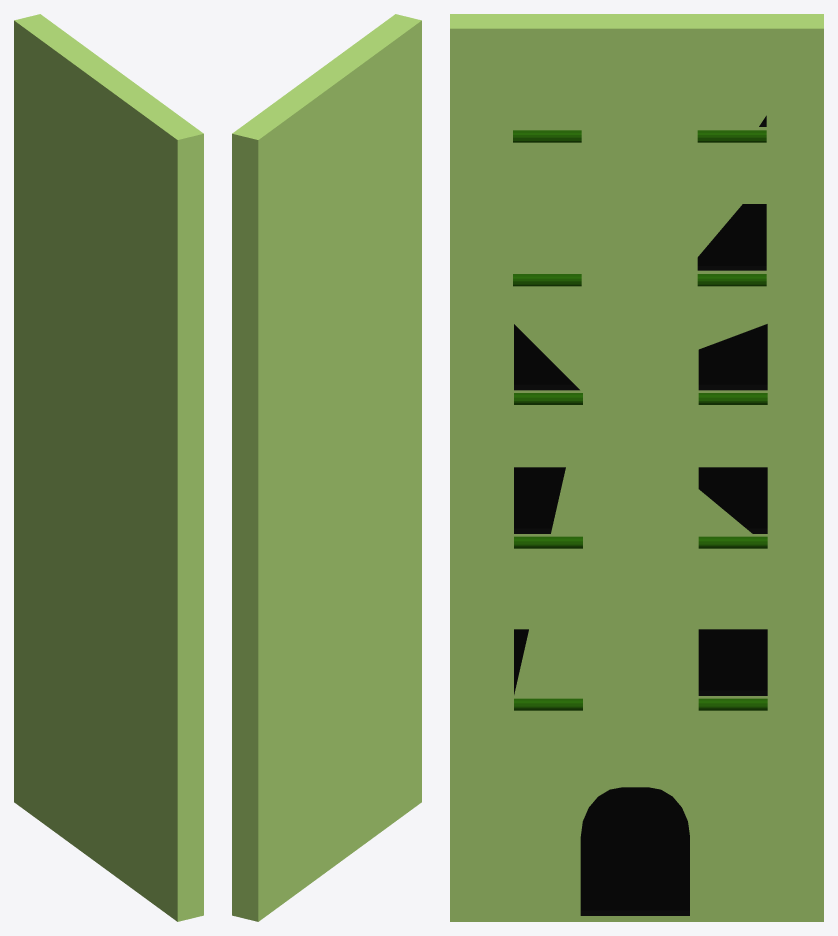
The model's file is Building3.fbx.
The picture shows the model from 3 angles, left to right: view 1: azimuth 30°, elevation 25°; view 2: azimuth 150°, elevation 25°; view 3: azimuth 270°, elevation 25°; orthographic projection. The views are drawn at different scales.
Parts seen in each view (by area): view 1: Building02; view 2: Building02; view 3: Building02.
Boxes of the visible parts, box(x1,y1,x2,y2) form: Building02: box(14, 14, 203, 921); Building02: box(232, 14, 421, 921); Building02: box(450, 14, 823, 921).
Size of the model in its own units: 6.75 by 149 by 56.49.
